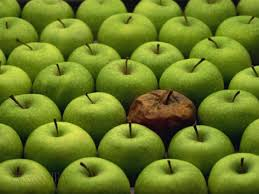apple: (100, 126, 166, 171), (59, 155, 135, 193), (25, 124, 92, 165), (169, 127, 234, 169), (36, 62, 99, 100), (135, 161, 204, 194), (5, 42, 67, 78), (203, 153, 259, 191), (158, 60, 225, 91), (200, 92, 258, 127), (190, 40, 251, 72), (3, 97, 58, 132), (98, 14, 156, 47), (99, 62, 159, 91), (69, 94, 131, 122), (41, 20, 98, 49), (3, 161, 53, 194), (70, 45, 124, 74), (132, 43, 188, 68), (158, 19, 211, 42), (78, 2, 129, 23), (217, 19, 259, 43), (1, 63, 33, 94), (21, 3, 73, 22), (1, 17, 37, 43), (134, 3, 184, 21), (186, 2, 238, 18)
damaged_apple: (130, 90, 193, 128)
